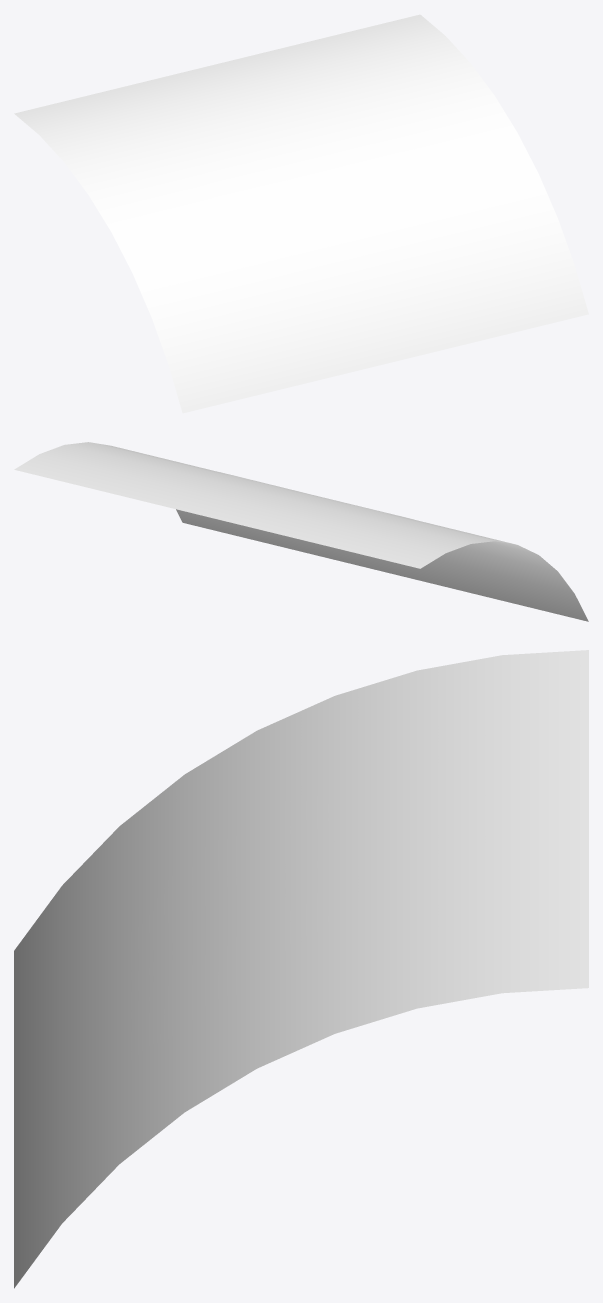
File: grd_If_H_1.dae
3 views of the same model, one above another, from view 1: azimuth 30°, elevation 25°; view 2: azimuth 150°, elevation 25°; view 3: azimuth 270°, elevation 25° (orthographic). The views are drawn at different scales.
Parts seen in each view (by area): view 1: grd_If_H_1; view 2: grd_If_H_1; view 3: grd_If_H_1.
Part boxes in pixels (<box>): grd_If_H_1: <box>14,14,588,413</box>; grd_If_H_1: <box>14,442,588,621</box>; grd_If_H_1: <box>14,650,588,1288</box>.
Size of the model in its own units: 512 by 212 by 368.
2 materials, 1 textured.
